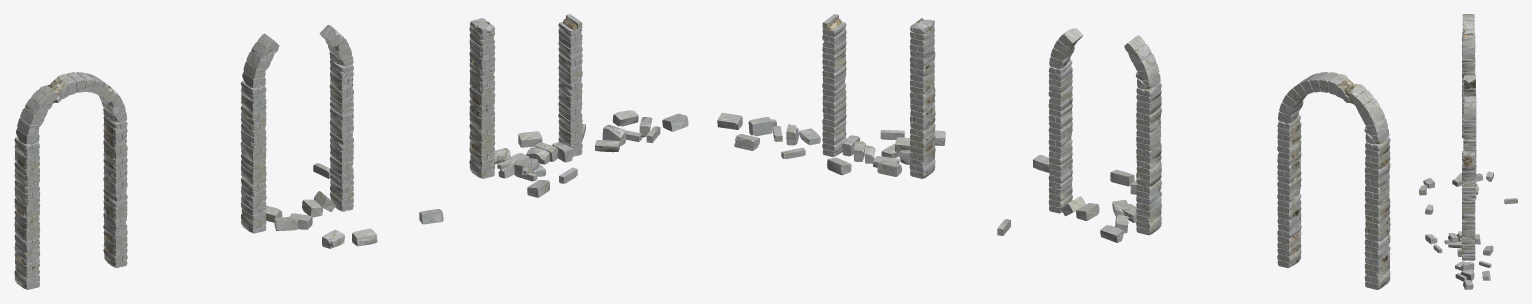
The model's file is stone-arch-ruins.glb.
3 renders of one model, left to right at view 1: azimuth 30°, elevation 25°; view 2: azimuth 150°, elevation 25°; view 3: azimuth 270°, elevation 25°, orthographic. The views are drawn at different scales.
Visible parts, largest first — view 1: Object_6, Object_5; view 2: Object_6, Object_5; view 3: Object_6, Object_5.
Part boxes in pixels (bbox=[...]): Object_6: bbox=[14, 14, 688, 289]; Object_5: bbox=[17, 18, 578, 283]; Object_6: bbox=[717, 14, 1390, 289]; Object_5: bbox=[826, 18, 1388, 285]; Object_6: bbox=[1419, 14, 1517, 289]; Object_5: bbox=[1463, 14, 1475, 234].
Bounding box in the file's own units: 17.55 × 4.95 × 4.1.
2 materials, 2 textured.
